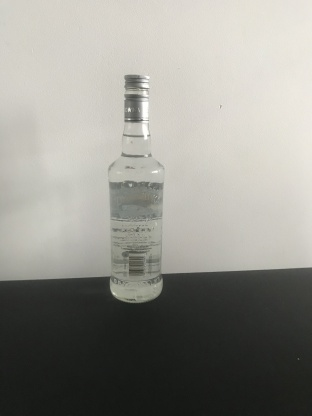nakretka: (122, 72, 150, 122)
